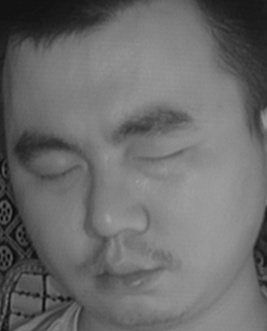blink: (33, 153, 86, 194), (134, 139, 191, 177)
mouth: (88, 247, 169, 300)
